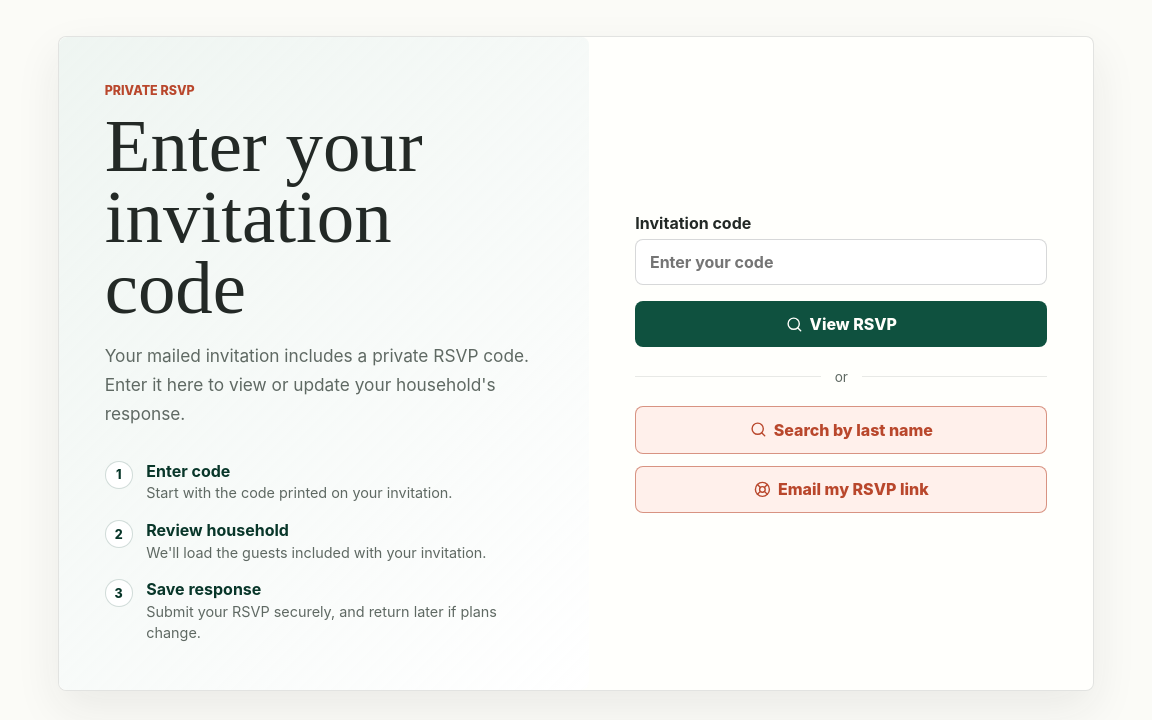
RsvpLookupPage › warns when a search returns too many matches
Click the button "Search by last name": (841, 430) [635,406,1047,454]
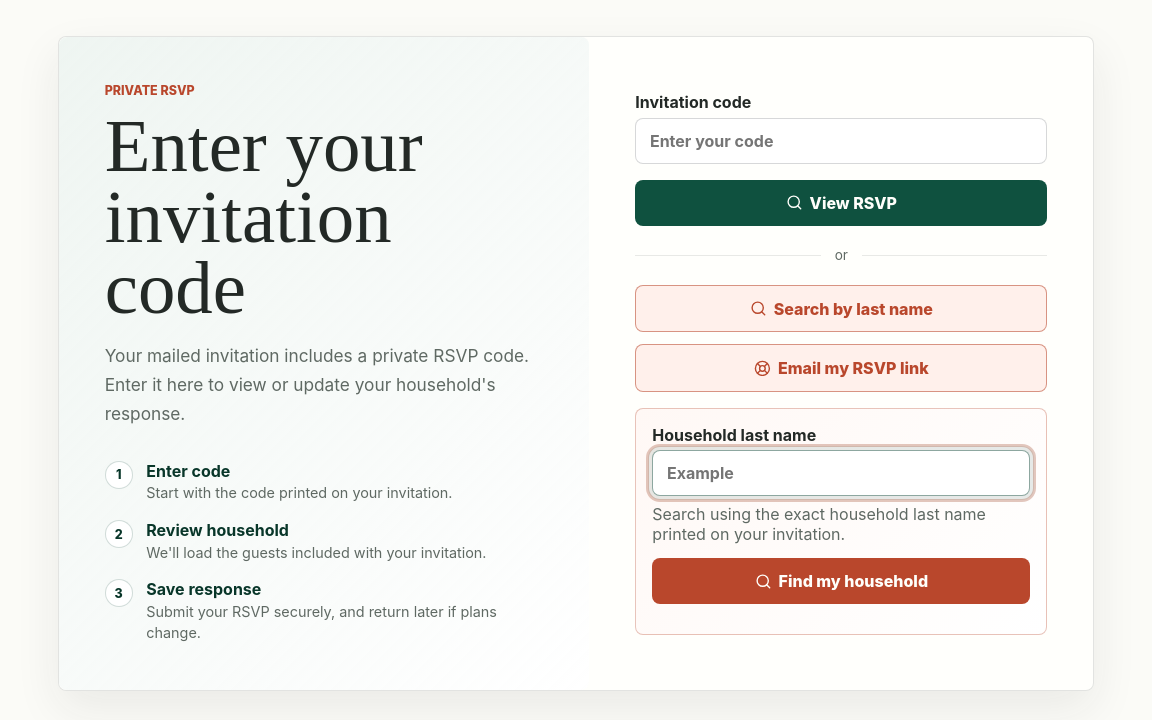
In the field labelled "Household last name": (841, 474) [652,450,1030,496], type "Smith"
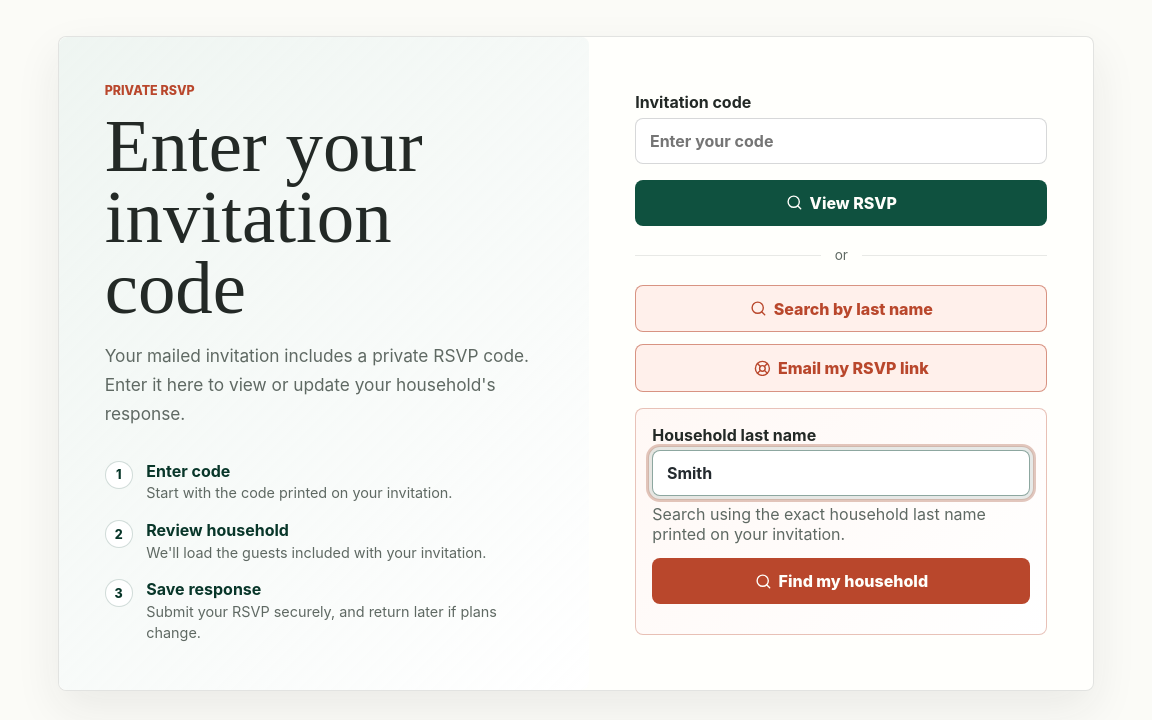
Click the button "Find my household": (841, 581) [652,558,1030,604]
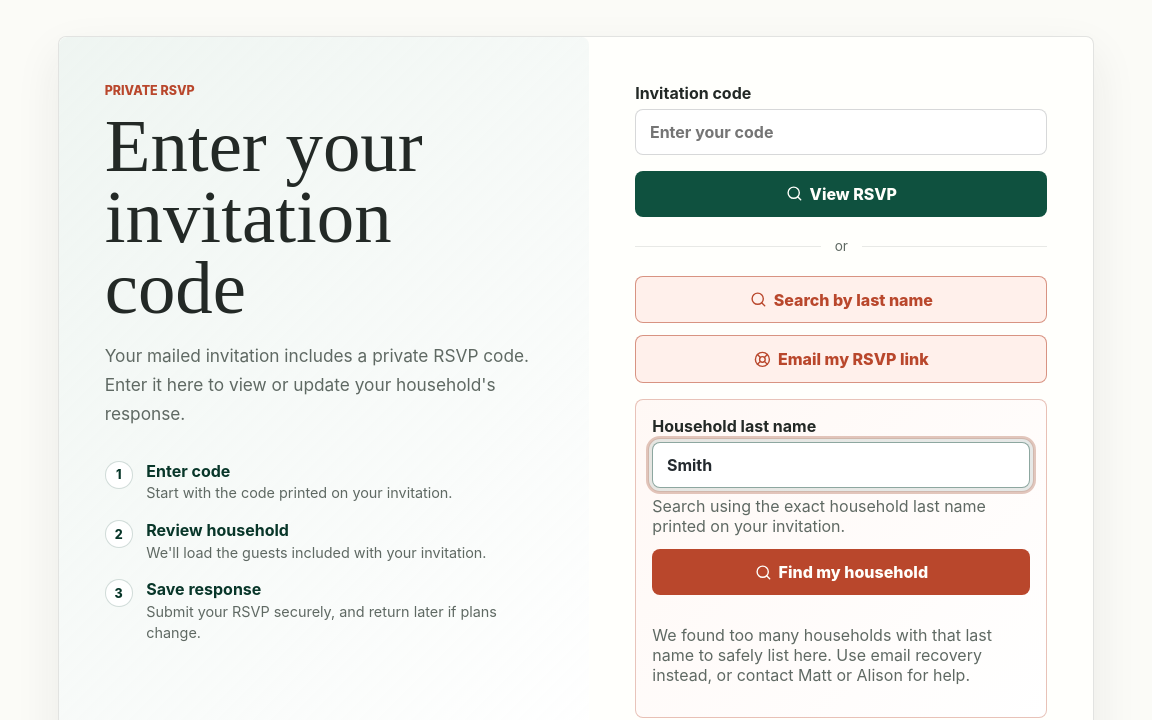
expect the text "We found too many households with that last name to safely list here. Use email recovery instead, or contact Matt or Ali" is shown: met, box [652,625,992,685]
